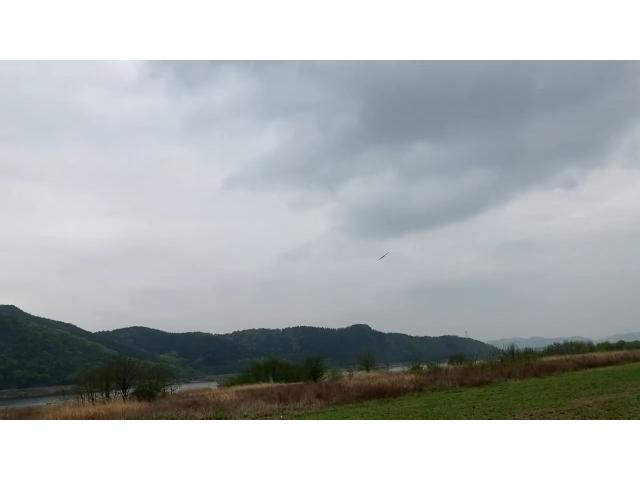Anti-Drone: (367, 247, 403, 265)
